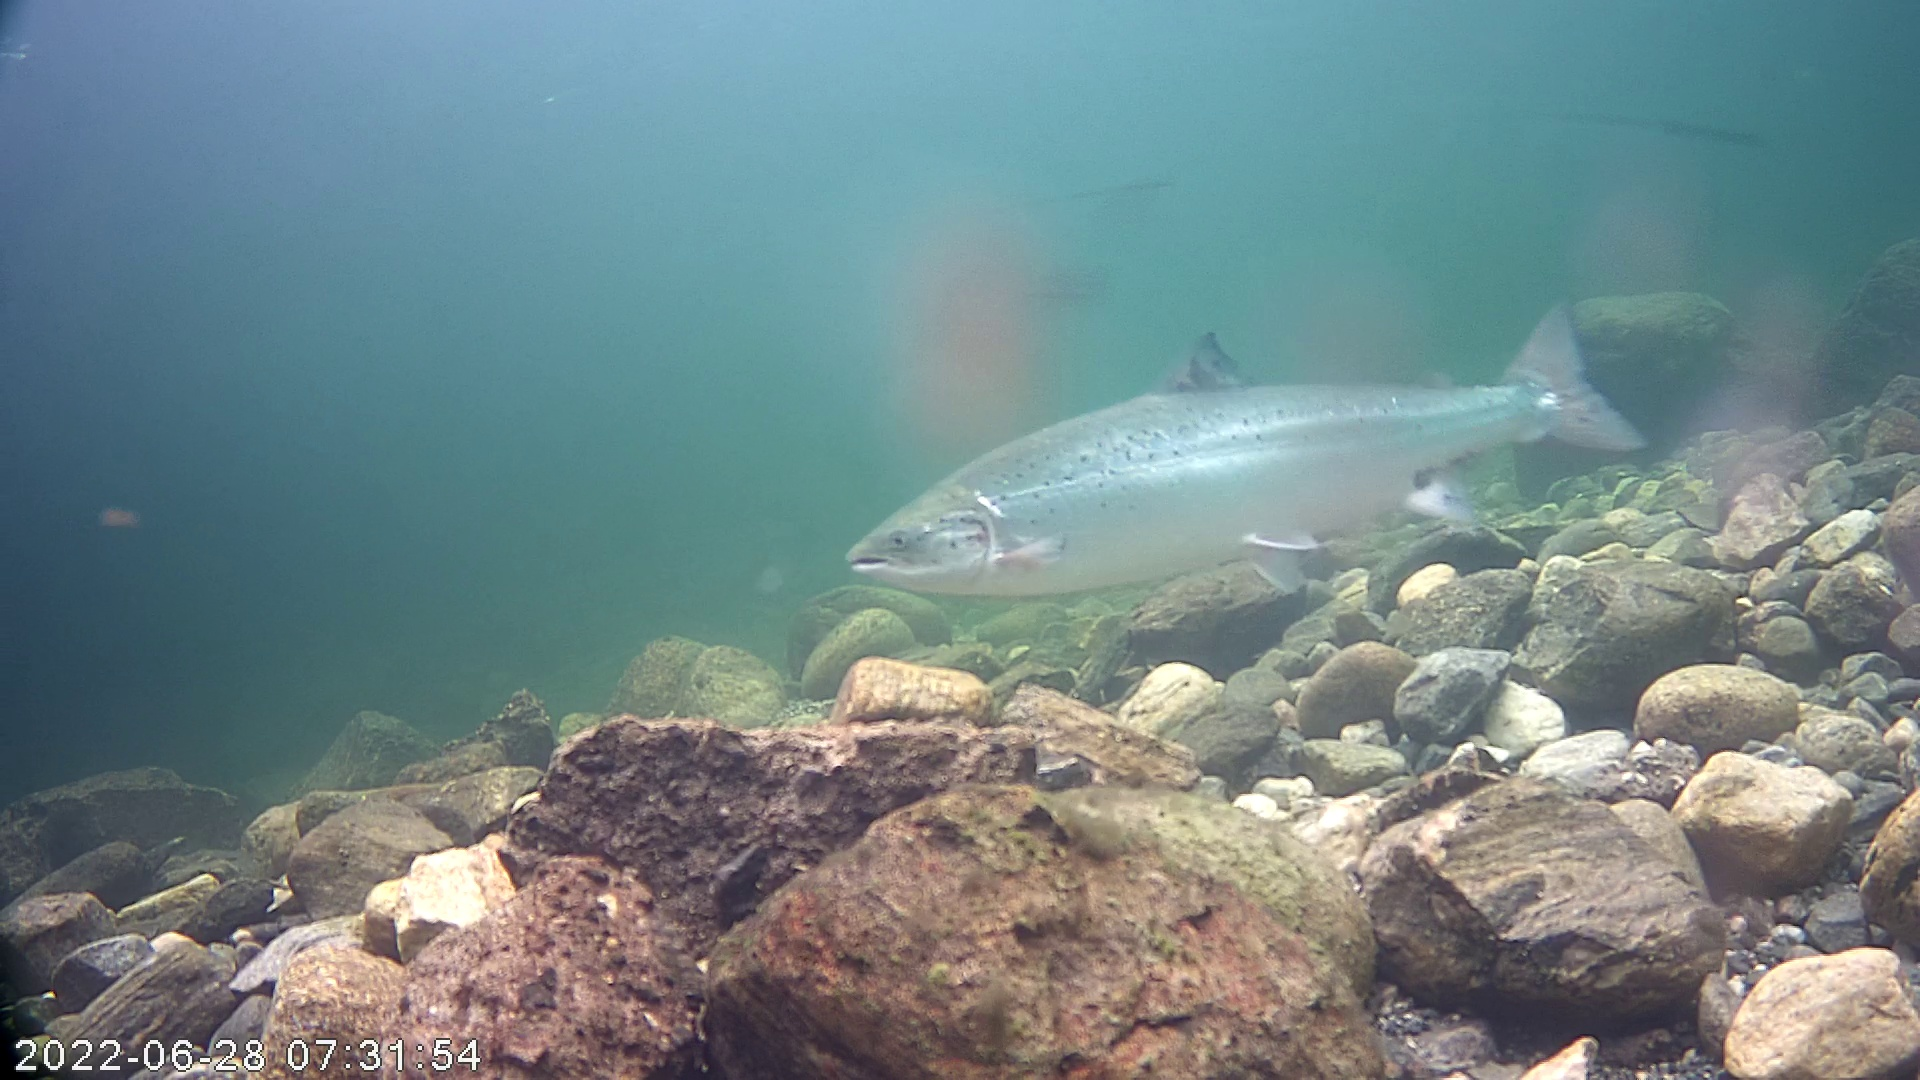salmon: (829, 216, 1702, 629)
